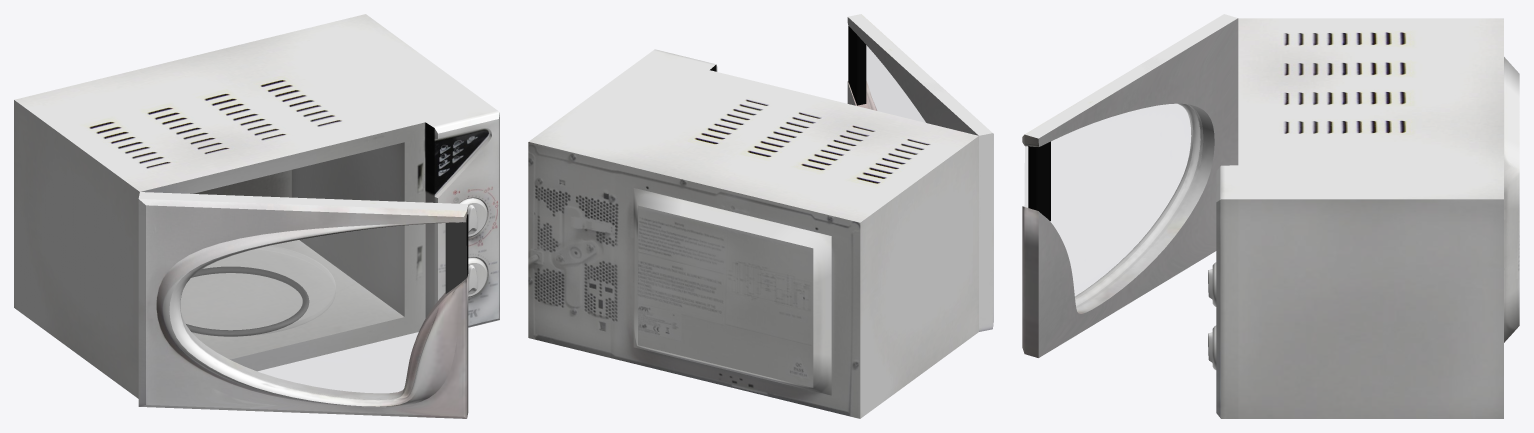
The model's file is microwave_old_01.glb.
3 renders of one model, left to right at view 1: azimuth 30°, elevation 25°; view 2: azimuth 150°, elevation 25°; view 3: azimuth 270°, elevation 25°, orthographic. The views are drawn at different scales.
Visible parts, largest first — view 1: Plane.001, Plane.000, Circle; view 2: Plane.001, Plane.000; view 3: Plane.001, Plane.000.
Boxes of the visible parts, x1,y1,x2,y2 form: Plane.001: (14,14,499,418); Plane.000: (181,222,466,399); Circle: (181,246,334,336); Plane.001: (528,14,993,418); Plane.000: (866,45,925,122); Plane.001: (1022,14,1519,418); Plane.000: (1024,104,1202,307).
Size of the model in its own units: 5.02 by 2.77 by 5.69.
2 materials, 2 textured.
